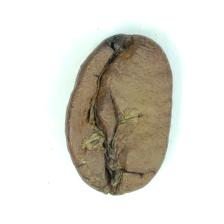NG: (82, 35, 157, 190)
